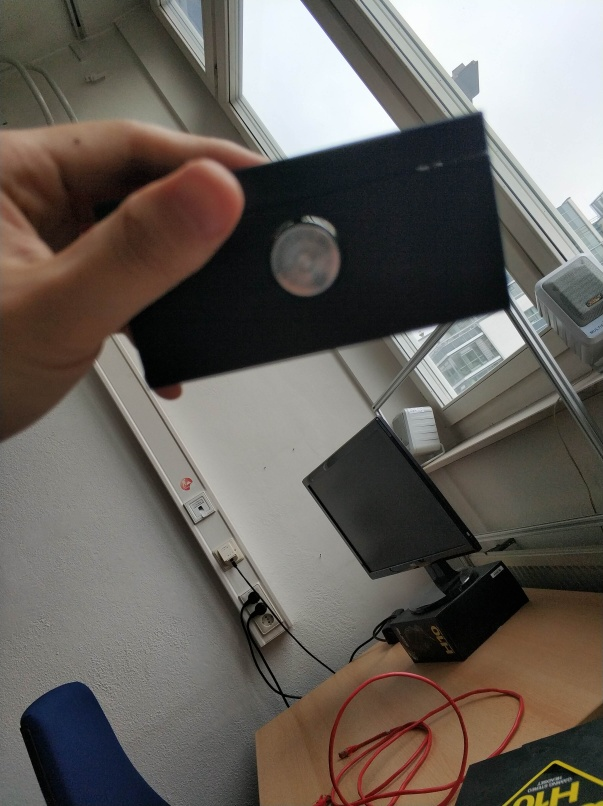black+black+silver: (120, 108, 507, 390)
